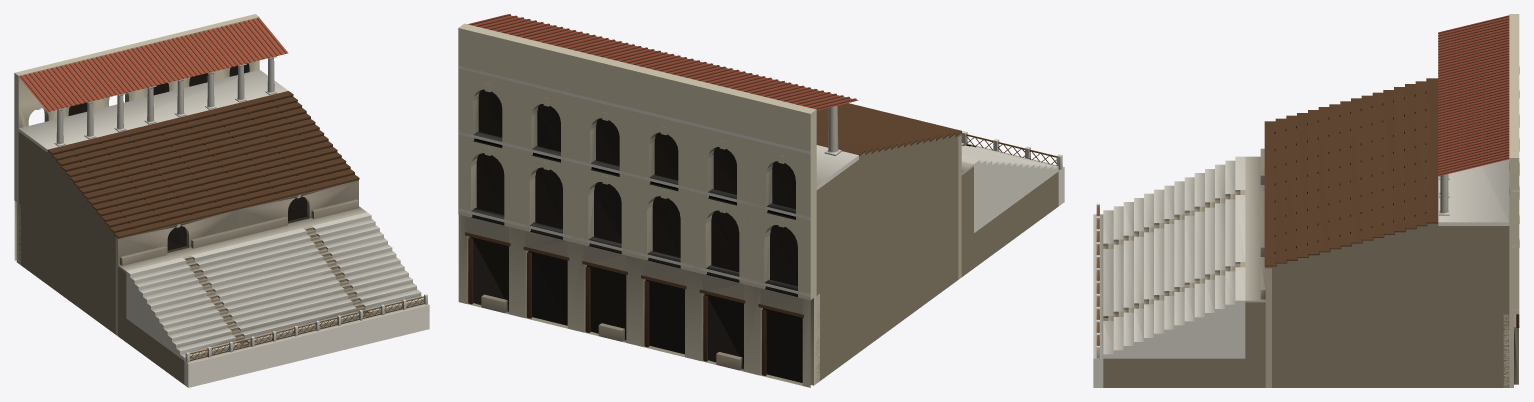
Rendered from rome_cavea_s.glb.
The picture shows the model from 3 angles, left to right: view 1: azimuth 30°, elevation 25°; view 2: azimuth 150°, elevation 25°; view 3: azimuth 270°, elevation 25°; orthographic projection. The views are drawn at different scales.
Parts seen in each view (by area): view 1: rome_cavea_s; view 2: rome_cavea_s; view 3: rome_cavea_s.
Boxes of the visible parts, left/top/right/bottom form: rome_cavea_s: left=14, top=14, right=429, bottom=387; rome_cavea_s: left=458, top=14, right=1064, bottom=387; rome_cavea_s: left=1093, top=14, right=1519, bottom=387.
Size of the model in its own units: 33.6 by 25 by 42.03.
